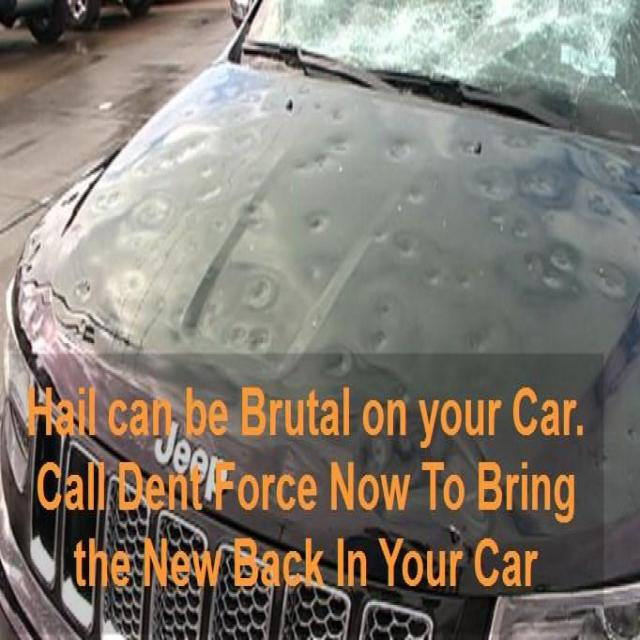dent: (135, 134, 211, 176), (524, 243, 580, 294), (520, 160, 571, 208), (224, 322, 274, 359), (592, 259, 634, 303), (238, 272, 279, 314), (132, 194, 174, 235), (318, 343, 357, 380), (237, 200, 270, 234), (477, 173, 515, 202), (93, 187, 127, 213), (394, 230, 422, 260), (366, 327, 393, 354), (588, 192, 616, 218), (291, 151, 329, 170), (465, 332, 491, 359), (500, 130, 533, 151), (305, 210, 330, 237), (510, 213, 534, 241), (121, 268, 145, 296), (386, 140, 412, 165), (325, 133, 353, 154), (72, 278, 96, 300), (487, 208, 510, 230), (194, 183, 222, 200), (376, 296, 394, 322), (304, 262, 325, 283), (406, 184, 426, 205), (422, 268, 440, 289), (328, 108, 346, 124), (371, 225, 386, 243), (456, 273, 472, 289), (195, 165, 211, 178)
